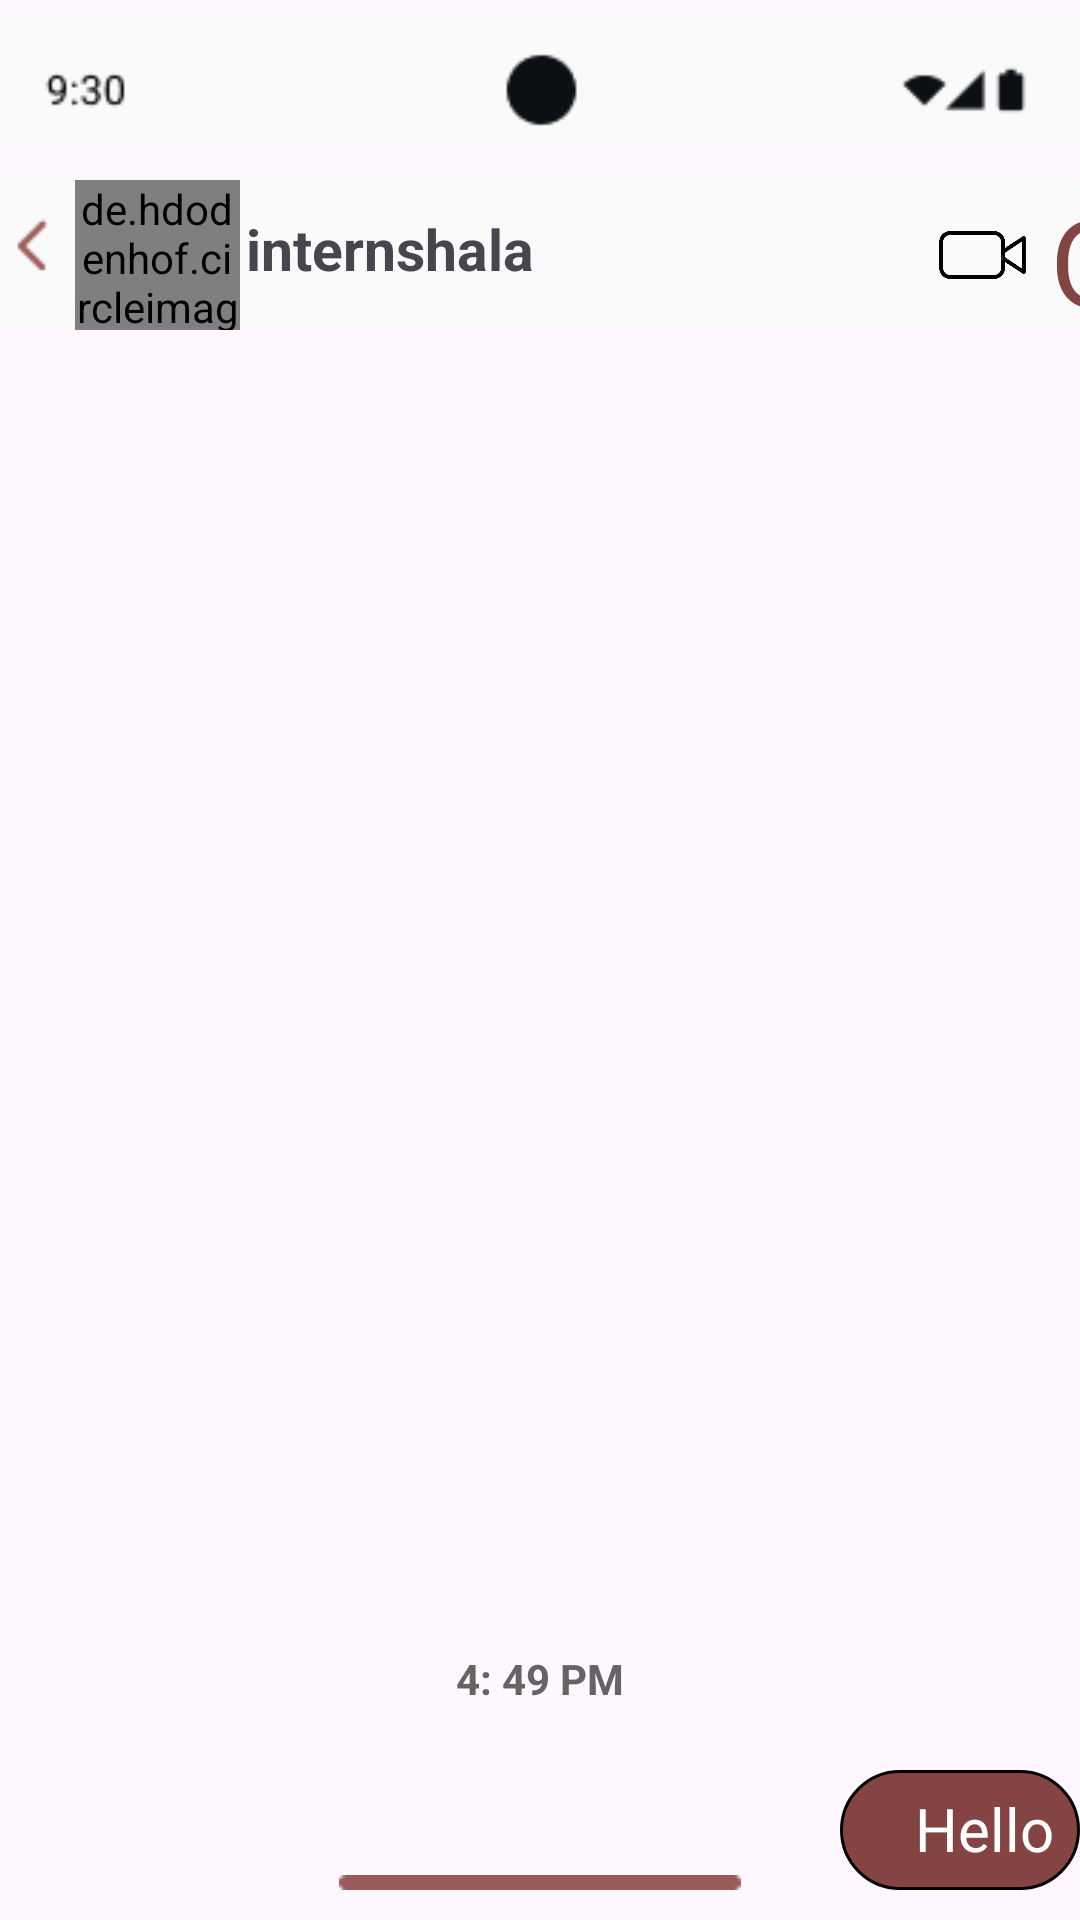

Screen size 1080w x 1920h. Icon name, then its center in pixels as (x=x, y=y):
chevronleft: (x=32, y=245)
videocall: (x=982, y=255)
